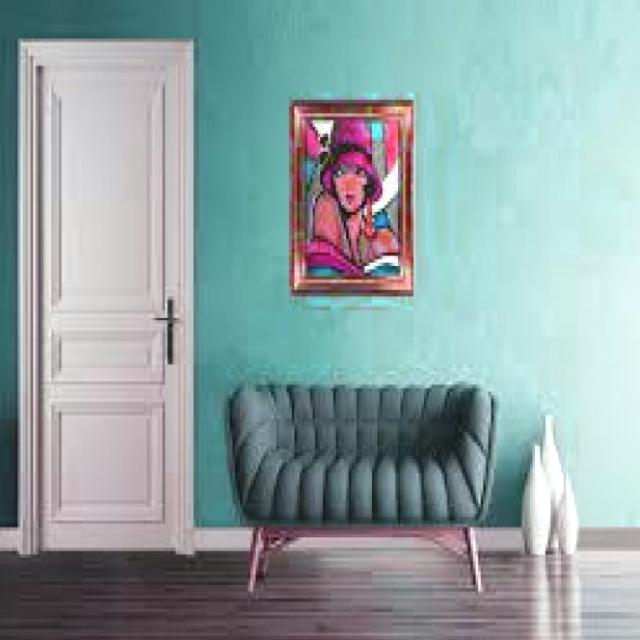door: (22, 38, 193, 554)
